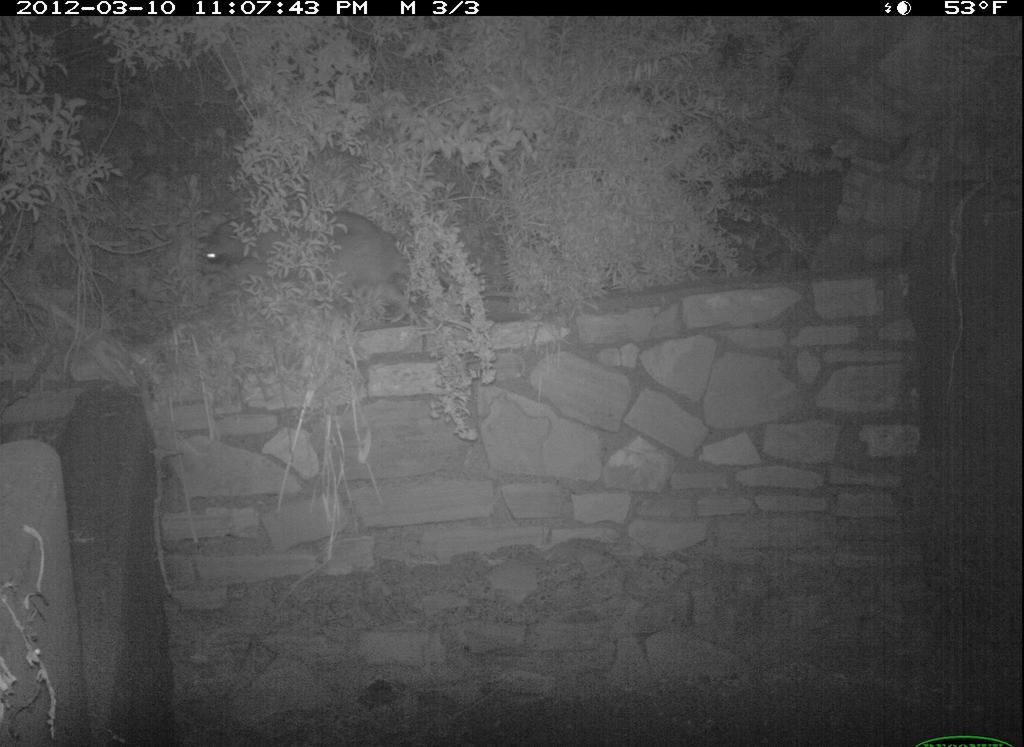raccoon: (189, 199, 440, 353)
